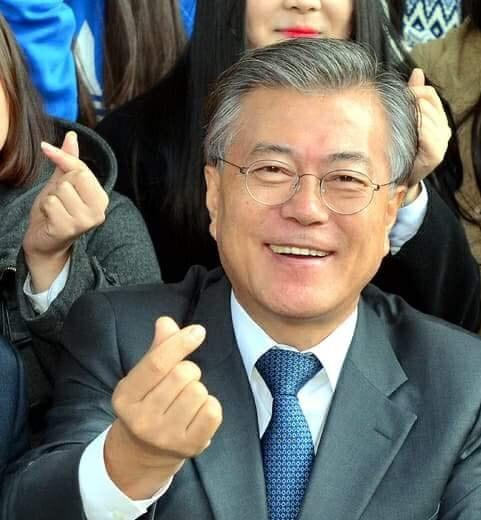heart gesture: (149, 315, 208, 360), (39, 130, 81, 168)
